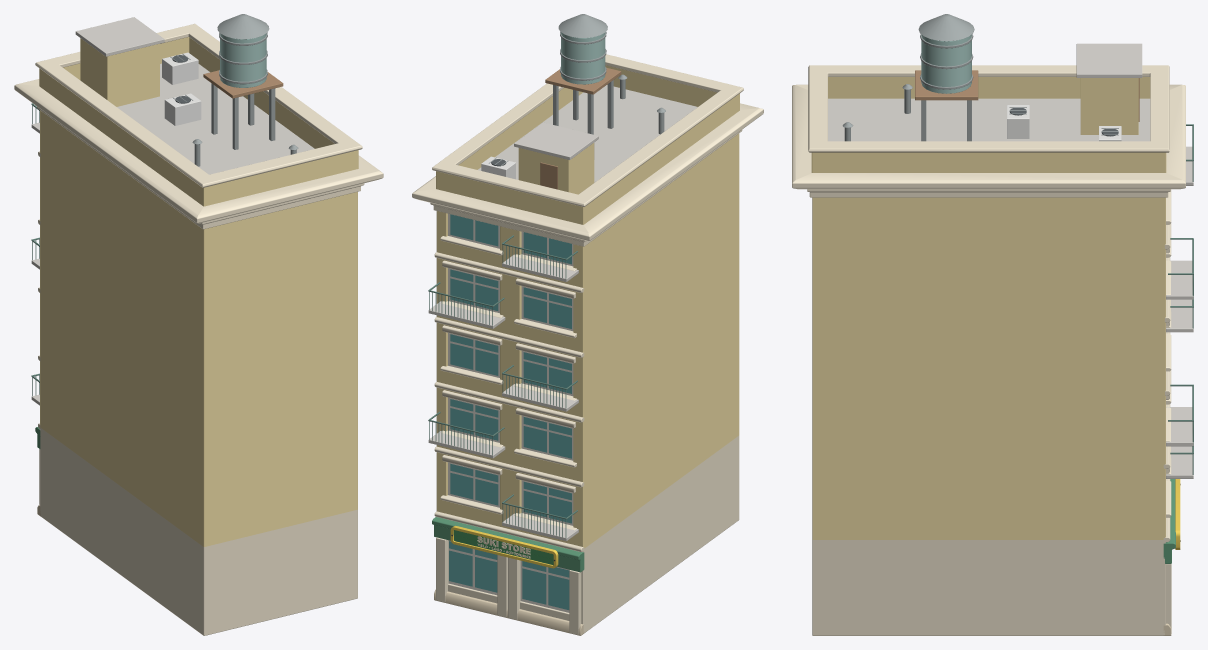
File: far_shophouse_22.glb
3 renders of one model, left to right at view 1: azimuth 30°, elevation 25°; view 2: azimuth 150°, elevation 25°; view 3: azimuth 270°, elevation 25°, orthographic. The views are drawn at different scales.
Parts seen in each view (by area): view 1: shell, trim, props; view 2: shell, trim, props, frames, sign_suki_store; view 3: shell, trim, props.
Part boxes in pixels (bbox=[...]): shell: bbox=[40, 63, 357, 635]; trim: bbox=[14, 23, 383, 516]; props: bbox=[31, 14, 298, 405]; shell: bbox=[436, 85, 739, 632]; trim: bbox=[412, 54, 763, 635]; props: bbox=[428, 14, 665, 541]; frames: bbox=[448, 213, 573, 612]; sign_suki_store: bbox=[450, 525, 558, 568]; shell: bbox=[812, 98, 1165, 635]; trim: bbox=[792, 65, 1185, 635]; props: bbox=[842, 14, 1193, 478].
Size of the model in its own units: 9.2 by 25.9 by 15.91.
